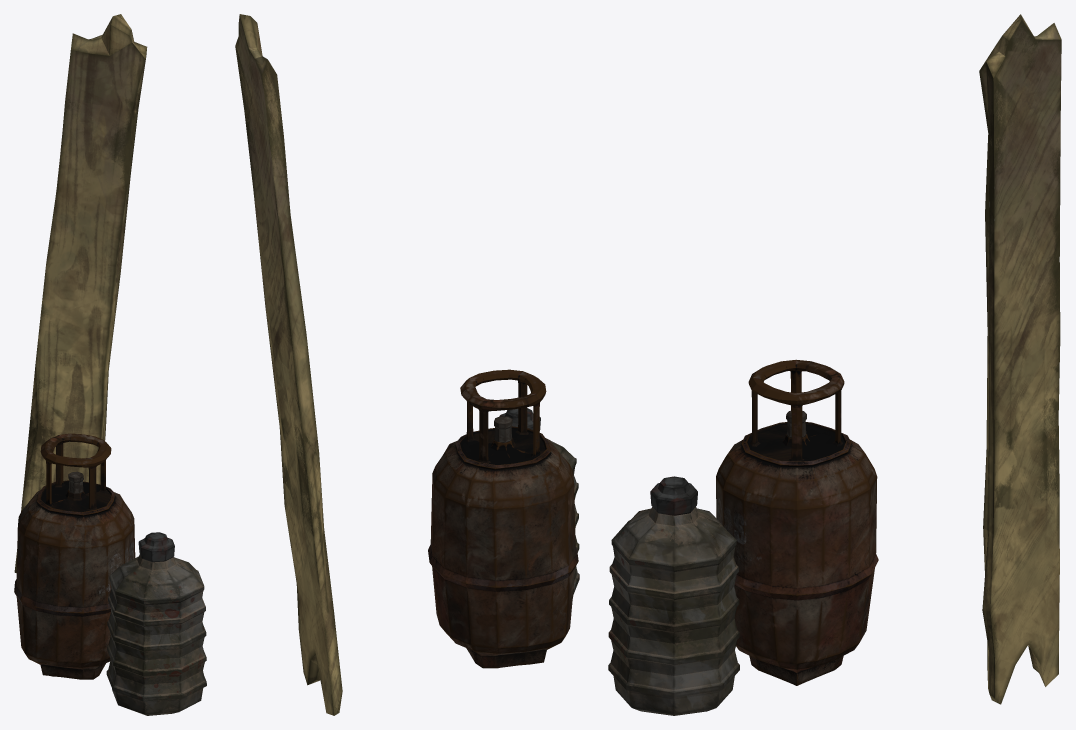
Rendered from Litter_Set_2.fbx.
3 renders of one model, left to right at view 1: azimuth 30°, elevation 25°; view 2: azimuth 150°, elevation 25°; view 3: azimuth 270°, elevation 25°, orthographic. The views are drawn at different scales.
Parts seen in each view (by area): view 1: Plank_2, Gas_Cylinder, Bottle_Big_2; view 2: Gas_Cylinder, Plank_2, Bottle_Big_2; view 3: Plank_2, Gas_Cylinder, Bottle_Big_2.
Boxes of the visible parts, box(x1,y1,x2,y2) form: Plank_2: box(14, 14, 147, 572); Gas_Cylinder: box(14, 433, 135, 679); Bottle_Big_2: box(106, 532, 206, 715); Gas_Cylinder: box(428, 369, 578, 668); Plank_2: box(235, 14, 342, 715); Bottle_Big_2: box(499, 408, 579, 598); Plank_2: box(979, 14, 1061, 704); Gas_Cylinder: box(716, 359, 878, 685); Bottle_Big_2: box(608, 476, 739, 715).
Size of the model in its own units: 83.37 by 226 by 125.
